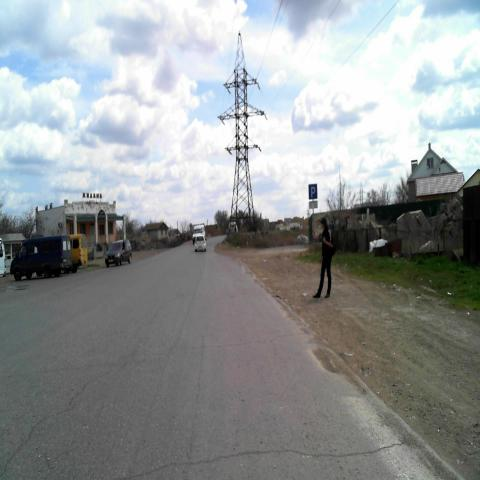6_4: (308, 184, 317, 198)
